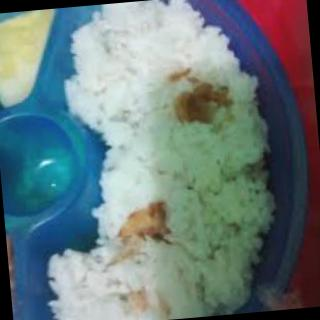Nasi: (21, 1, 285, 320)
